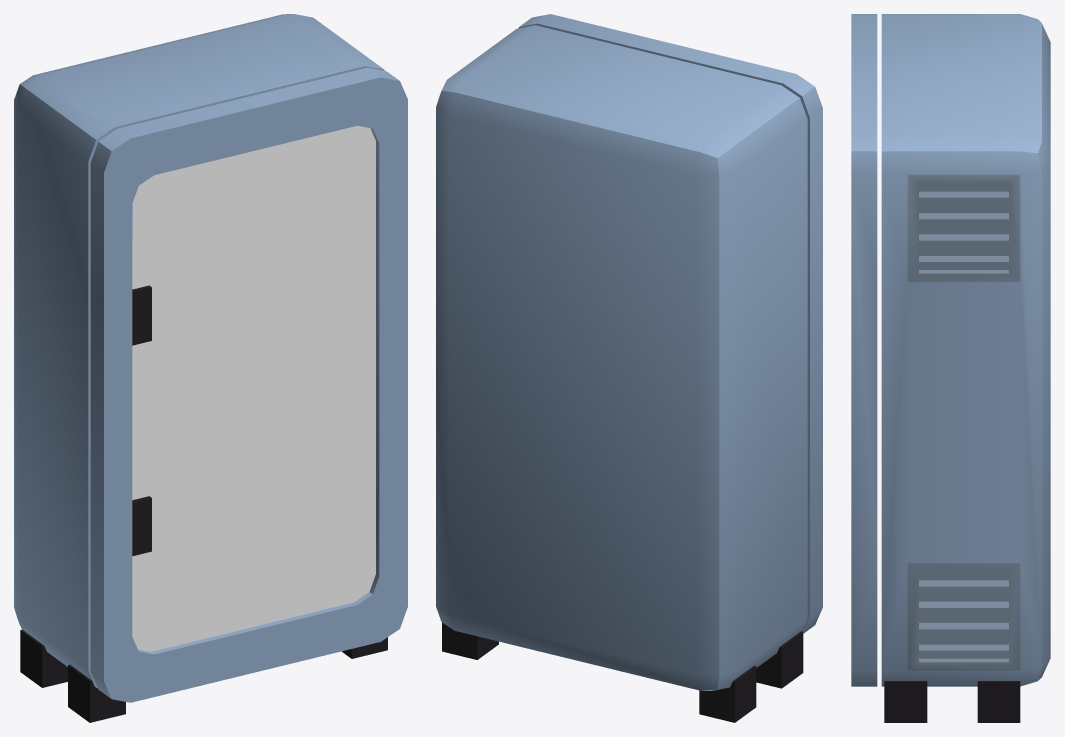
The model's file is quaternius-sushi-restaurant-environment-canfridge.glb.
The picture shows the model from 3 angles, left to right: view 1: azimuth 30°, elevation 25°; view 2: azimuth 150°, elevation 25°; view 3: azimuth 270°, elevation 25°; orthographic projection. The views are drawn at different scales.
Parts seen in each view (by area): view 1: Environment_CanFridge, Environment_CanFridge_Door; view 2: Environment_CanFridge; view 3: Environment_CanFridge.
Part boxes in pixels (x1,y1,x2,y2): Environment_CanFridge: (14, 14, 407, 722); Environment_CanFridge_Door: (132, 125, 375, 651); Environment_CanFridge: (436, 14, 822, 722); Environment_CanFridge: (851, 14, 1050, 722).
Bounding box in the file's own units: 2.36 × 4.39 × 1.37.
Materials: 2 (1 with a texture image).
